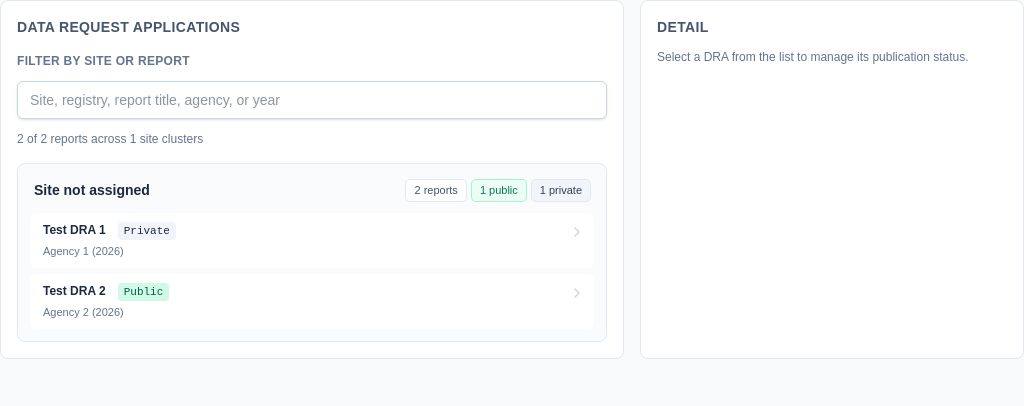
Test: DraPublishControl › regression: a stale post-publish refetch for a previously-selected DRA does not clobber the panel after the admin has since selected a different DRA (codex P2 r
The width and height of the screenshot is (1024, 406).
Note: Select DRA 1 (no history) and start + submit a publish action.
Click the button with test id "dra-row-11111111-1111-4111-8111-111111111111" at (74, 230), box [30,212,594,268]
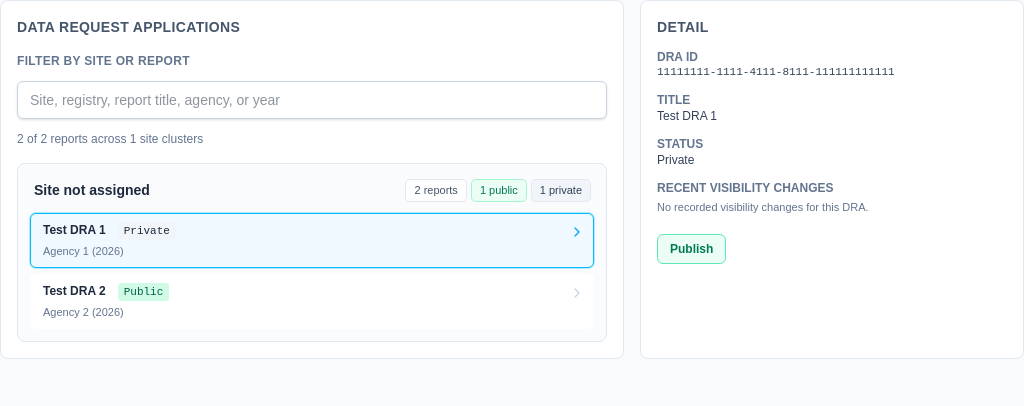
Expected: the message "No recorded visibility changes for this DRA." is shown, [657,201,868,213]
Click the button "Publish" at (692, 249), box [657,234,726,264]
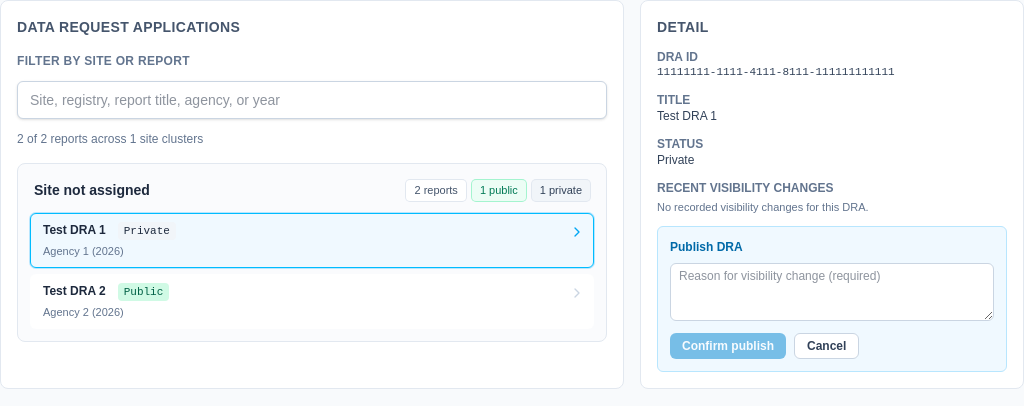
Type "Just published" into the text box labelled "Reason for visibility change" at (832, 292), box [670,263,994,321]
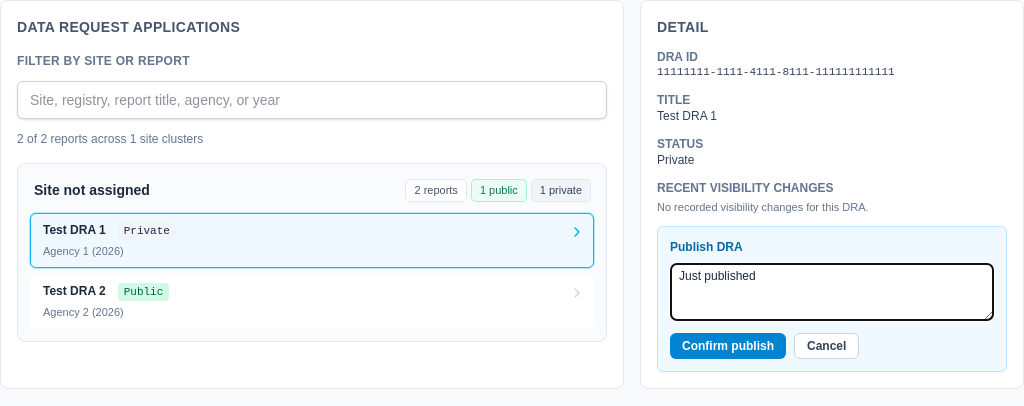
Click the button "Confirm publish" at (728, 346), box [670,333,786,359]
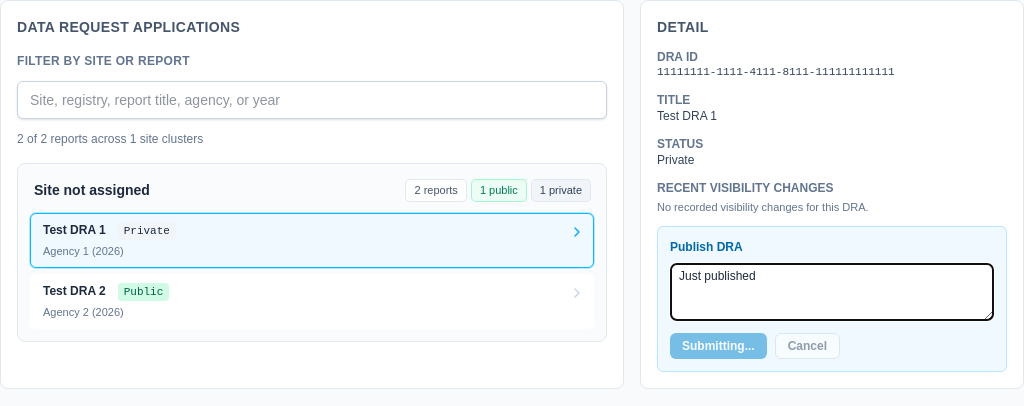
Note: Before the publish POST resolves, switch selection to DRA 2.
Click the button with test id "dra-row-22222222-2222-4222-8222-222222222222" at (74, 291), box [30,274,594,329]
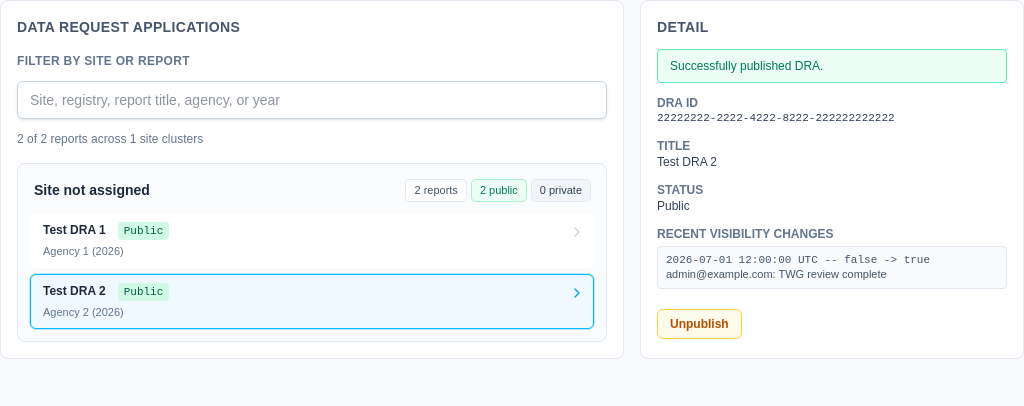
Expected: the list with test id "dra-audit-history-list" is shown, [657,246,1007,289]
Expected: the text "admin@example.com: TWG review complete" is shown, [666,268,887,280]
Expected: the message with test id "dra-audit-history-empty" is gone
